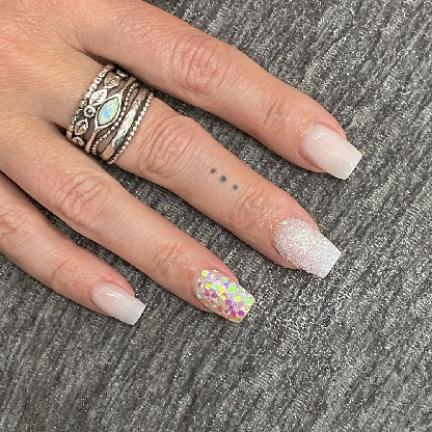Nail: (273, 217, 341, 278), (300, 124, 361, 179), (192, 269, 255, 322), (92, 283, 145, 324)
